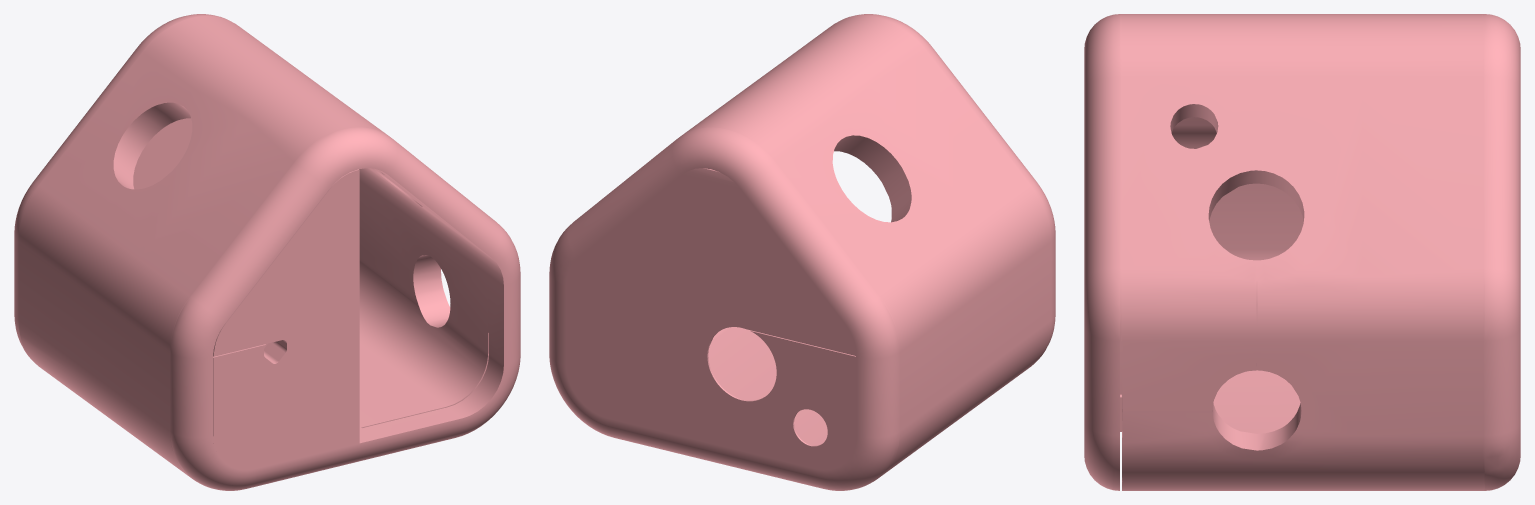
File: HomieHead16.glb
3 renders of one model, left to right at view 1: azimuth 30°, elevation 25°; view 2: azimuth 150°, elevation 25°; view 3: azimuth 270°, elevation 25°, orthographic. The views are drawn at different scales.
Parts seen in each view (by area): view 1: Brep.406, Brep.407; view 2: Brep.406; view 3: Brep.406.
Boxes of the visible parts, box(x1,y1,x2,y2) form: Brep.406: box(14, 14, 520, 490); Brep.407: box(213, 169, 359, 469); Brep.406: box(549, 14, 1055, 490); Brep.406: box(1084, 14, 1520, 490).
Size of the model in its own units: 0.5144 by 0.4718 by 0.4685.
